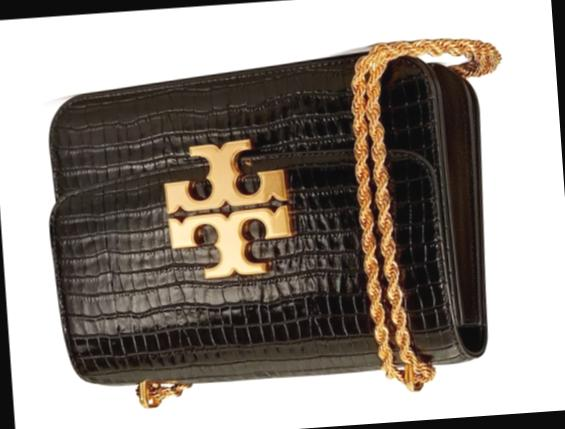TORY-BURCH: (161, 135, 298, 281)
